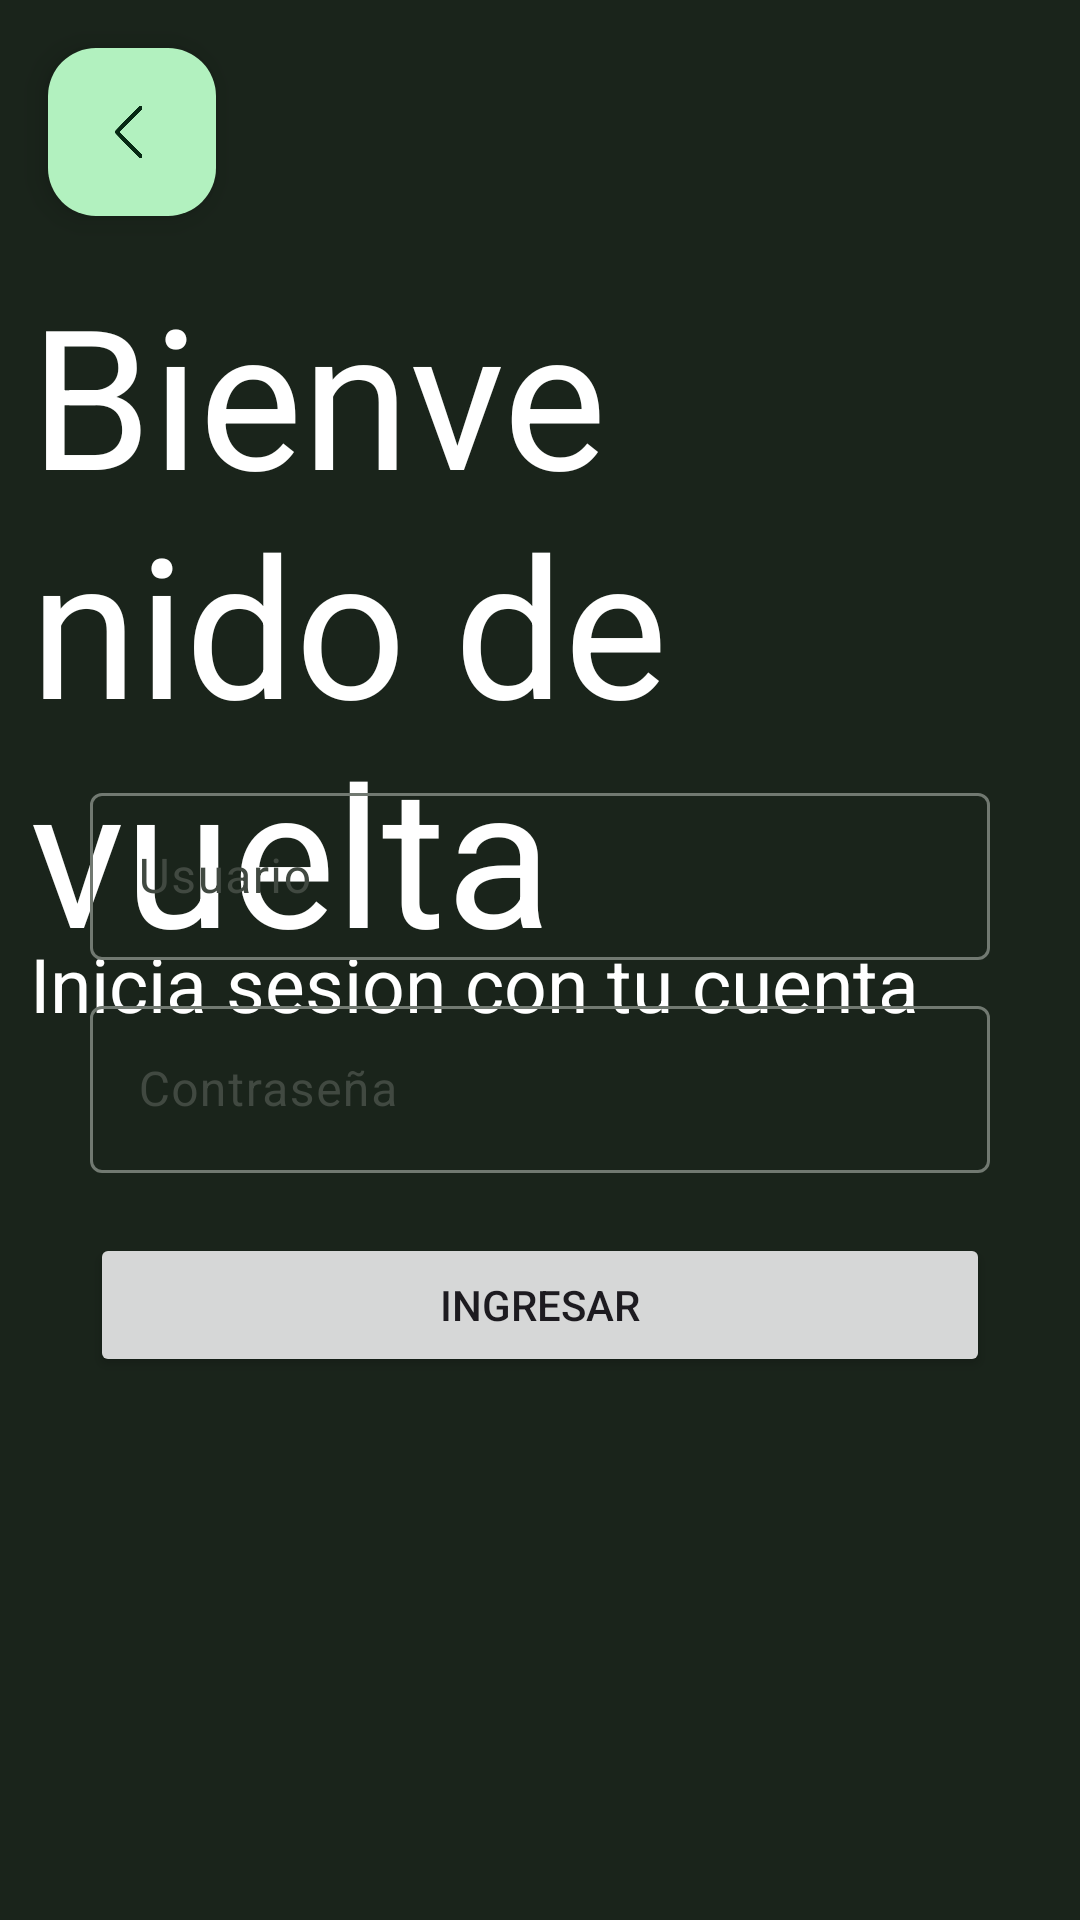

Icon bounding boxes for this 1080x1920 phone screenshot, format (x1, y1, x2, y2):
atras: (48, 48, 216, 216)
